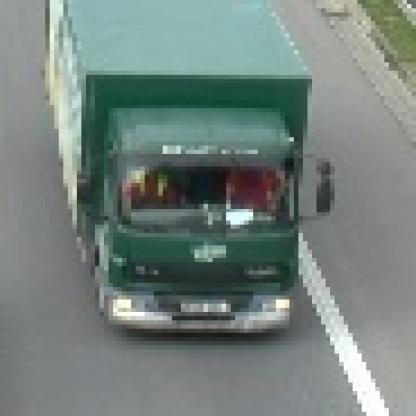truck: (37, 1, 336, 342)
